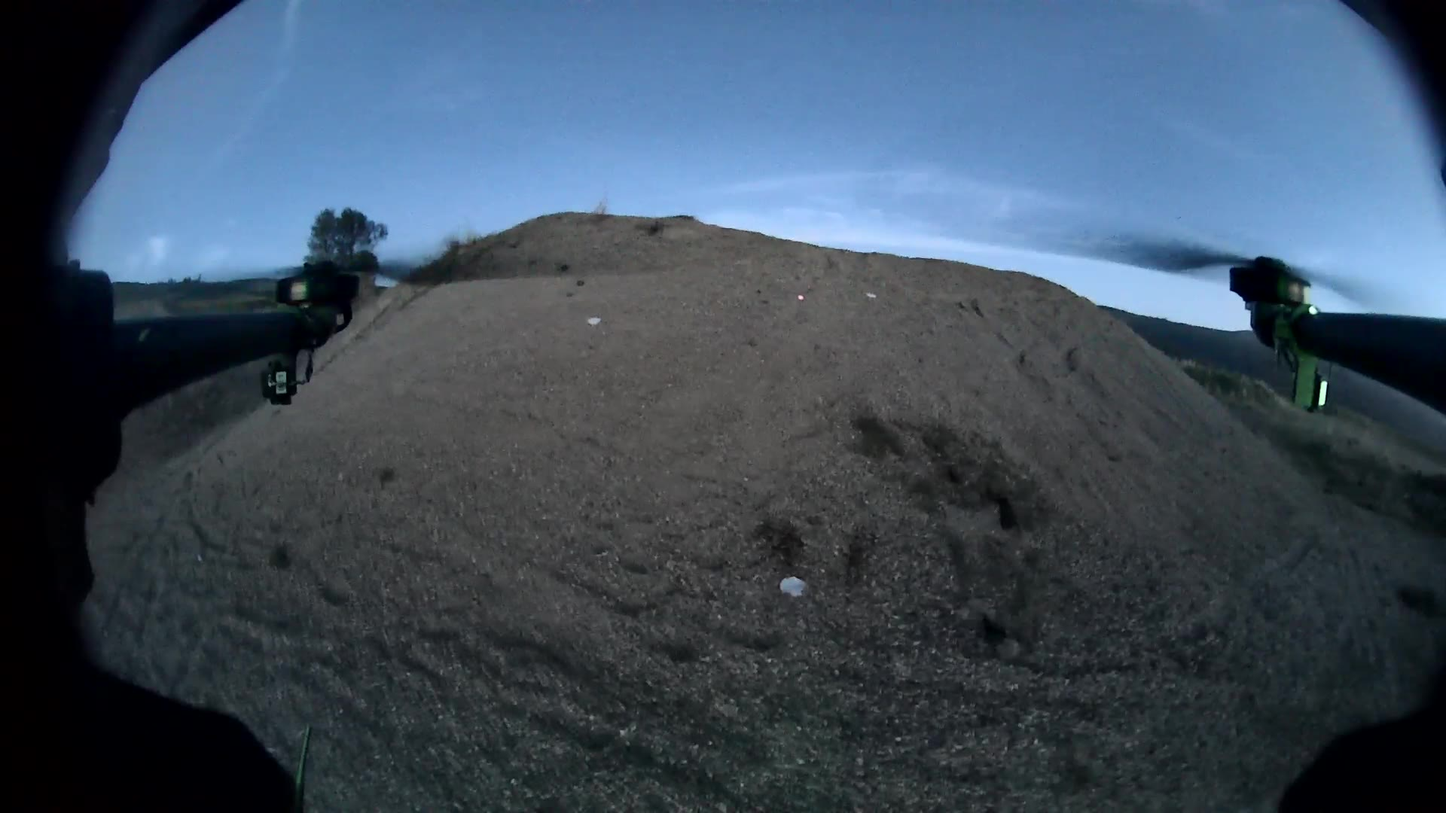Target: (778, 574, 809, 598), (586, 315, 601, 326)
